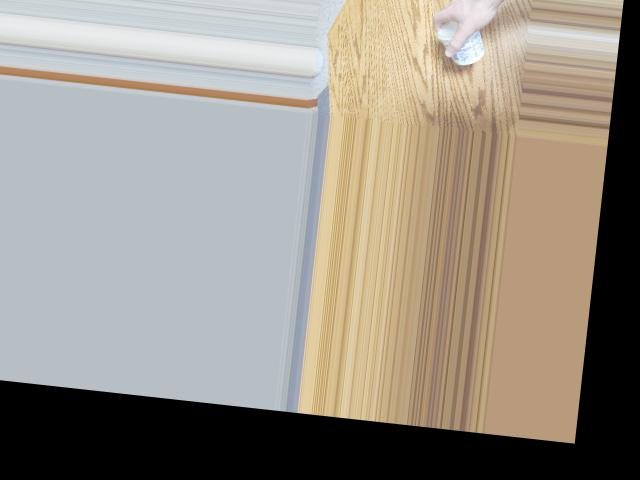cotage: (435, 11, 496, 65)
